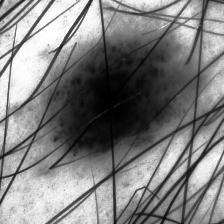Benign Marking or Mole: (51, 37, 193, 158)
